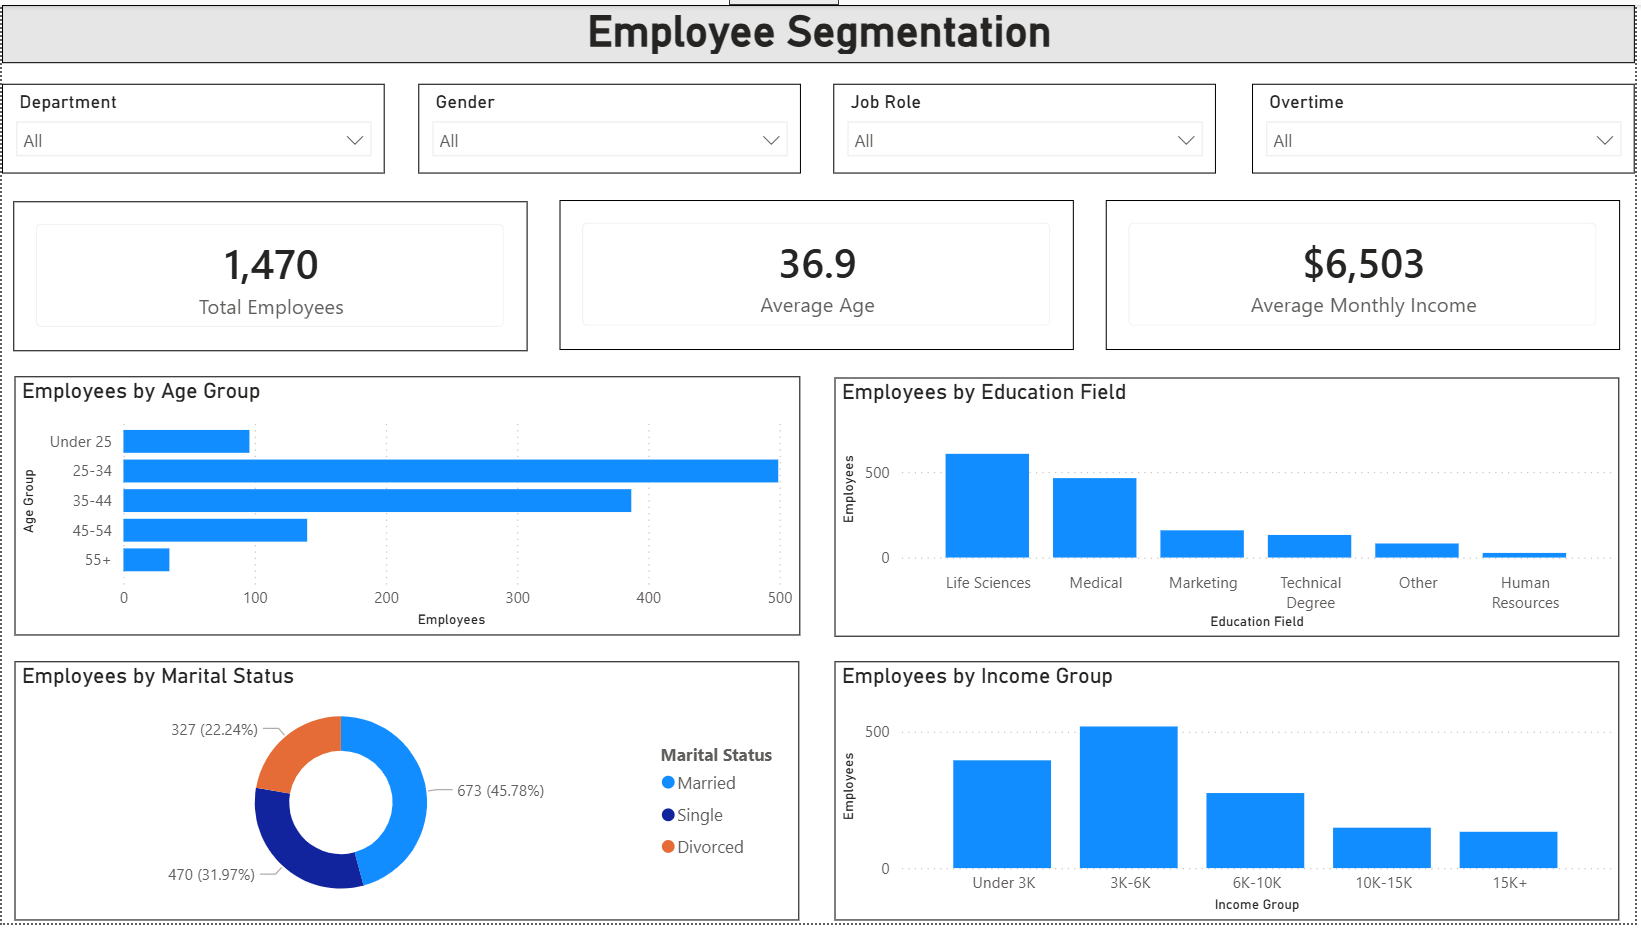

Layout of this report page (visuals, bound fields, positions):
{"tool":"powerbi","page":{"name":"Employee Segmentation","canvas":[1280,720],"ordinal":2},"visuals":[{"type":"textbox","title":"Employee Segmentation","box":[0,0,1280,45.6],"z":0},{"type":"slicer","fields":{"Values":["HR Data.Department"]},"box":[0,62,300,70],"z":1000},{"type":"slicer","fields":{"Values":["HR Data.Gender"]},"box":[326,62,300,70],"z":2000},{"type":"slicer","fields":{"Values":["HR Data.Job Role"]},"box":[652,62,300,70],"z":3000},{"type":"slicer","fields":{"Values":["HR Data.Overtime"]},"box":[980,62,300,70],"z":4000},{"type":"cardVisual","fields":{"Data":["Measures (3).Total Employees Display"]},"box":[9.3,153.5,403.5,117.4],"z":5000},{"type":"cardVisual","fields":{"Data":["Measures (3).Average Age"]},"box":[437.2,153,403.5,117.4],"z":6000},{"type":"cardVisual","fields":{"Data":["Measures (3).Average Monthly Income Display"]},"box":[865,153,403,117.4],"z":7000},{"type":"clusteredBarChart","fields":{"Category":["HR Data.Age Group"],"Y":["Measures (3).Total Employees"]},"box":[9.5,291,616.1,203],"z":8000},{"type":"clusteredColumnChart","fields":{"Category":["HR Data.Education Field"],"Y":["Measures (3).Total Employees"]},"box":[652.2,292.2,615.6,203.3],"z":9000},{"type":"clusteredColumnChart","fields":{"Category":["HR Data.Income Group"],"Y":["Measures (3).Total Employees"]},"box":[652.2,514.4,615.6,203.3],"z":10000},{"type":"donutChart","fields":{"Category":["HR Data.Marital Status"],"Y":["Measures (3).Total Employees"]},"box":[10,514.4,615.6,203],"z":11000}]}

Visuals, with their boxes in screenshot pixels (x1, y1, x2, y2), scaled from the page's 1280x720 canvas onto the 1641x931 screenshot:
"Employee Segmentation" textbox: x1=0, y1=0, x2=1640, y2=59
slicer - HR Data.Department: x1=0, y1=80, x2=385, y2=171
slicer - HR Data.Gender: x1=418, y1=80, x2=803, y2=171
slicer - HR Data.Job Role: x1=836, y1=80, x2=1220, y2=171
slicer - HR Data.Overtime: x1=1256, y1=80, x2=1640, y2=171
cardVisual - Measures (3).Total Employees Display: x1=12, y1=198, x2=529, y2=350
cardVisual - Measures (3).Average Age: x1=561, y1=198, x2=1078, y2=350
cardVisual - Measures (3).Average Monthly Income Display: x1=1109, y1=198, x2=1626, y2=350
clusteredBarChart - HR Data.Age Group x Measures (3).Total Employees: x1=12, y1=376, x2=802, y2=639
clusteredColumnChart - HR Data.Education Field x Measures (3).Total Employees: x1=836, y1=378, x2=1625, y2=641
clusteredColumnChart - HR Data.Income Group x Measures (3).Total Employees: x1=836, y1=665, x2=1625, y2=928
donutChart - HR Data.Marital Status x Measures (3).Total Employees: x1=13, y1=665, x2=802, y2=928
